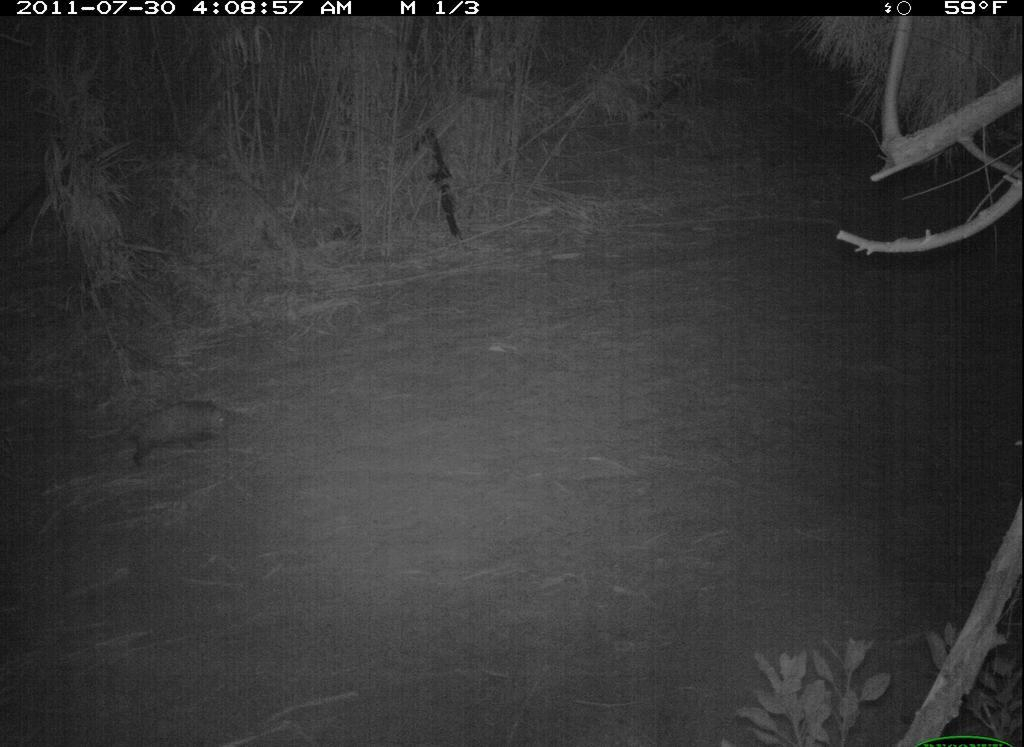opossum: (86, 393, 249, 483)
